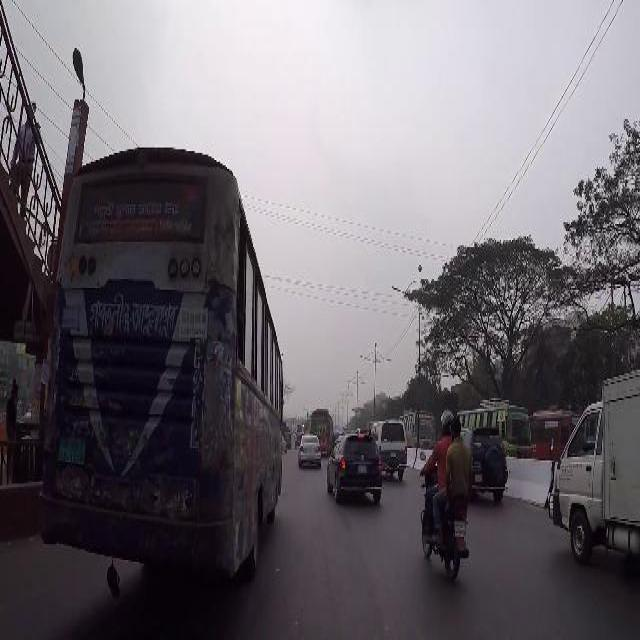10: (419, 404, 469, 582)
11: (546, 364, 638, 574)
15: (460, 422, 508, 499)
19: (369, 418, 406, 478)
5: (325, 431, 383, 501), (298, 431, 320, 469)
Truck: (37, 142, 283, 580), (456, 398, 530, 460), (532, 401, 582, 470), (399, 407, 435, 450), (310, 407, 332, 450)
